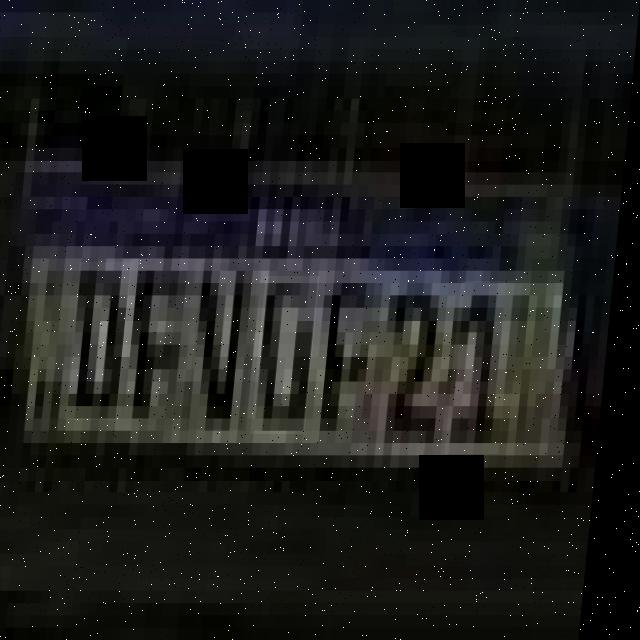0: (259, 276, 325, 434)
1: (454, 281, 521, 454)
D: (73, 262, 137, 420)
F: (129, 260, 199, 425), (325, 273, 390, 447)
V: (194, 263, 264, 429)
